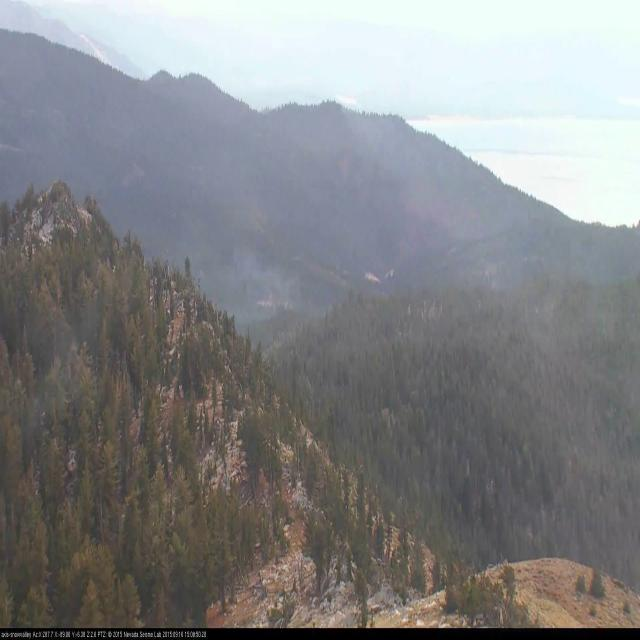smoke: (197, 227, 340, 322)
